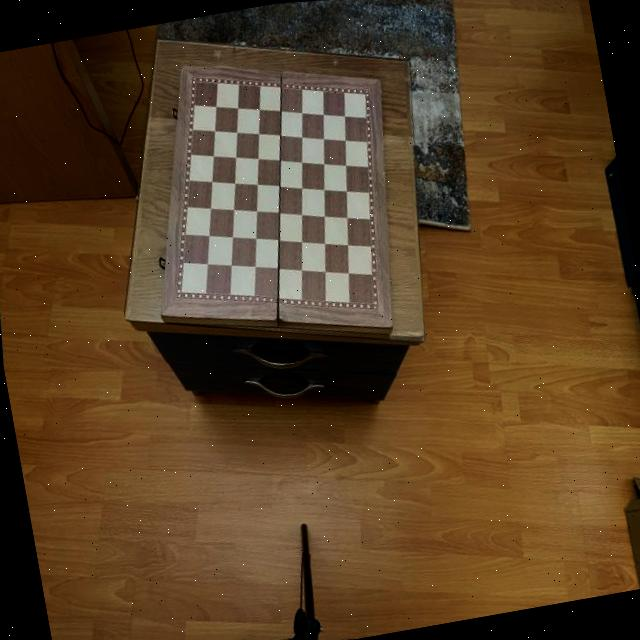corners: (381, 308, 402, 336), (174, 52, 198, 75), (152, 309, 178, 326), (372, 68, 392, 90)
